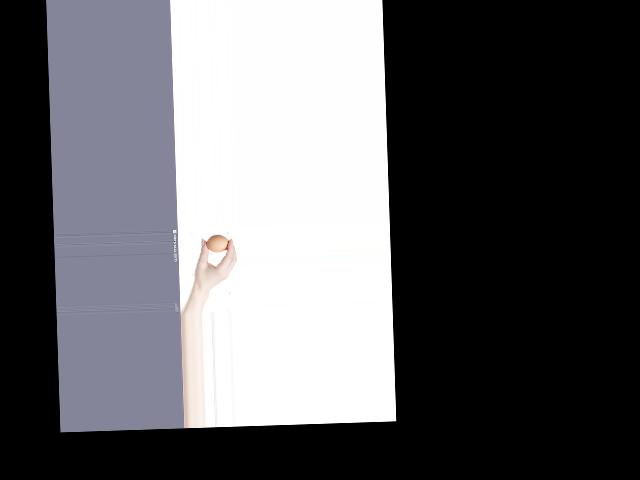egg: (205, 234, 228, 253)
